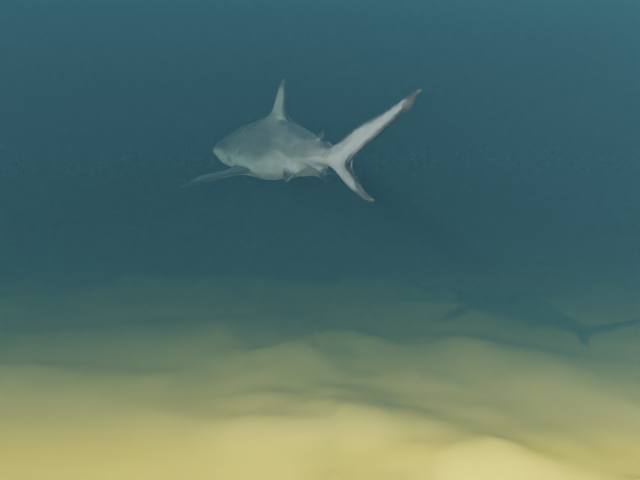Carribean Shark.001: (180, 78, 421, 201)
